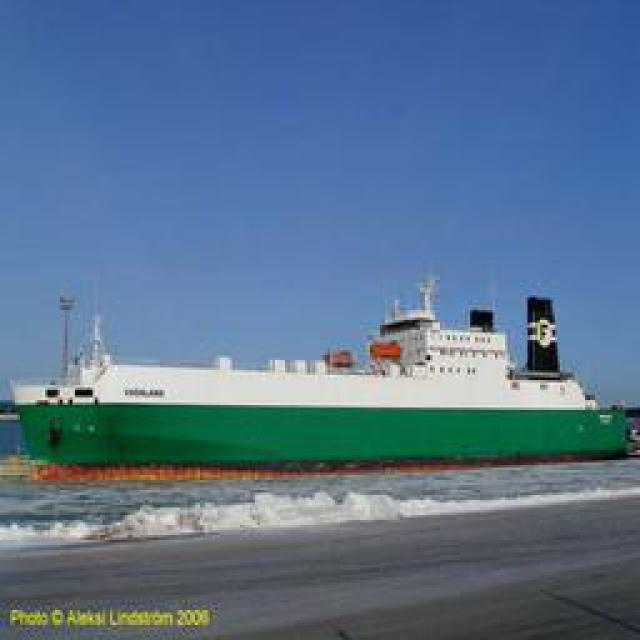Ship: (19, 277, 632, 477)
